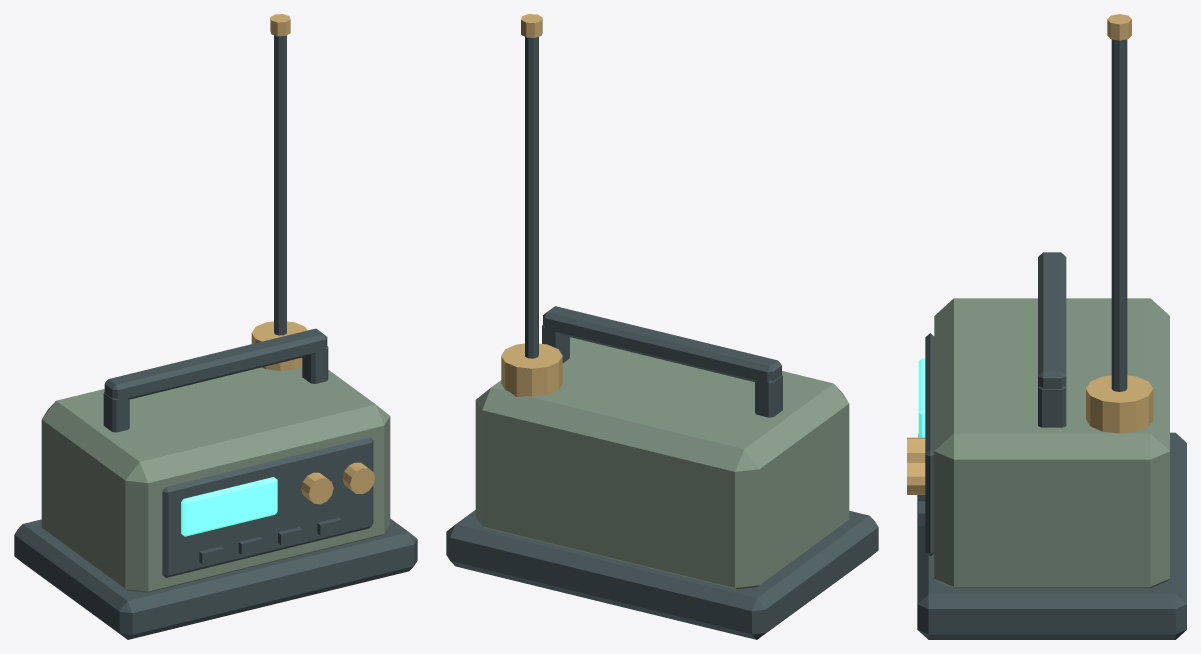
Rendered from acc_fieldradio.glb.
3 renders of one model, left to right at view 1: azimuth 30°, elevation 25°; view 2: azimuth 150°, elevation 25°; view 3: azimuth 270°, elevation 25°, orthographic. The views are drawn at different scales.
Visible parts, largest first — view 1: Accessory_FieldRadio; view 2: Accessory_FieldRadio; view 3: Accessory_FieldRadio.
Part boxes in pixels (x1=…): Accessory_FieldRadio: x1=14, y1=14, x2=417, y2=639; Accessory_FieldRadio: x1=446, y1=14, x2=878, y2=639; Accessory_FieldRadio: x1=907, y1=14, x2=1186, y2=639.
Size of the model in its own units: 0.72 by 1.17 by 0.4985.
